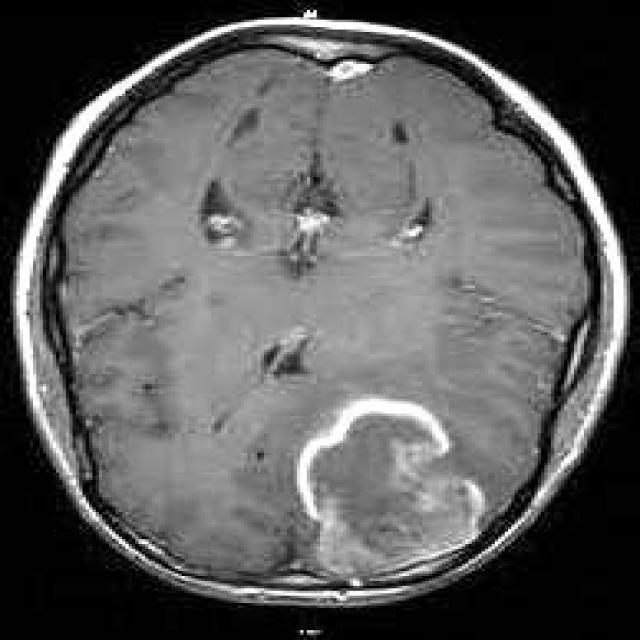brain tumor: (290, 399, 482, 571)
